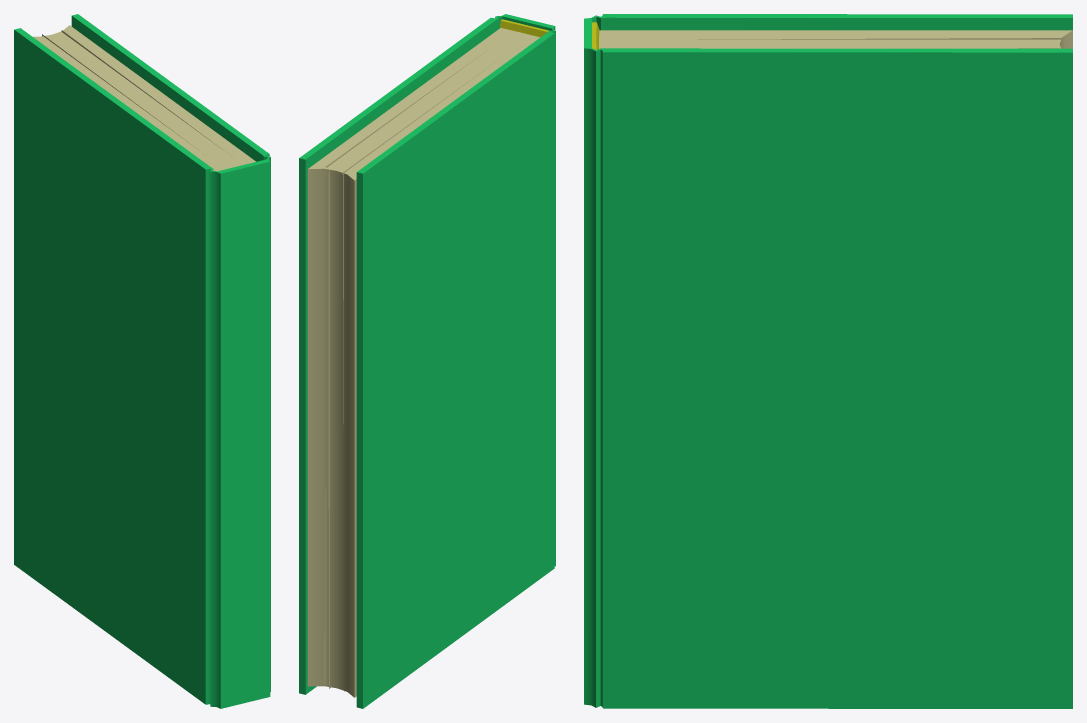
File: Book_GrabItem.fbx
The picture shows the model from 3 angles, left to right: view 1: azimuth 30°, elevation 25°; view 2: azimuth 150°, elevation 25°; view 3: azimuth 270°, elevation 25°; orthographic projection. The views are drawn at different scales.
Visible parts, largest first — view 1: Cover, Pages; view 2: Cover, Pages, Pages_unit, Pages_unit_3, Pages_unit_2, Nori; view 3: Cover, Pages.
Part boxes in pixels (x1,y1,x2,y2): Cover: (14,14,270,708); Pages: (33,25,255,171); Cover: (299,14,555,708); Pages: (307,28,539,697); Pages_unit: (328,171,330,688); Pages_unit_3: (324,52,484,684); Pages_unit_2: (342,65,490,691); Nori: (499,19,549,37); Cover: (584,14,1072,708); Pages: (599,30,1072,48).
Bounding box in the file's own units: 3 × 24.01 × 16.2.
